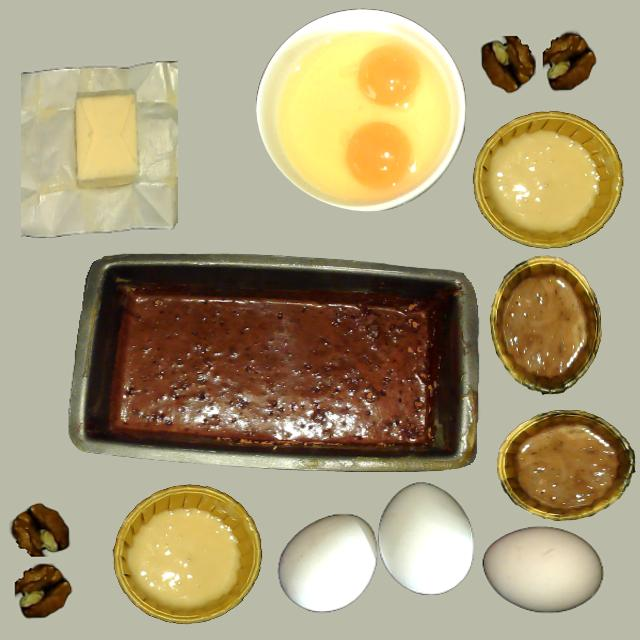Egg: (346, 122, 413, 188), (358, 44, 422, 107)
